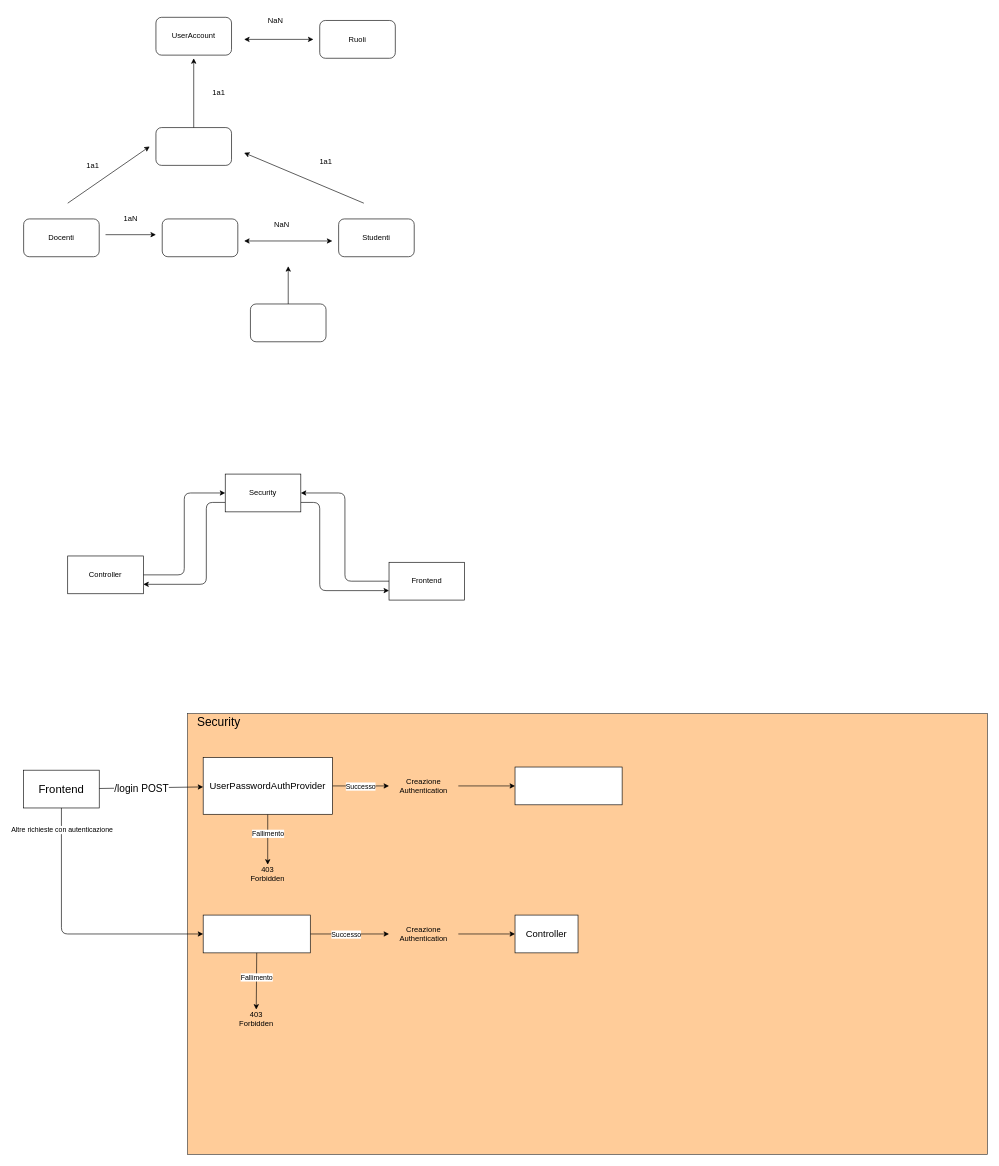
Some shapes in this 999 by 1166 pixel diagram are drawn without their labels. The centre of each missing label's shape, as x and y in pixels:
"CookieFilter" goes at point (256, 933).
"Corsi" goes at point (200, 237).
"LoginSuccesHandler" goes at point (568, 785).
"Persone" goes at point (193, 146).
"tabella associativa: con le due FK" goes at point (288, 322).
